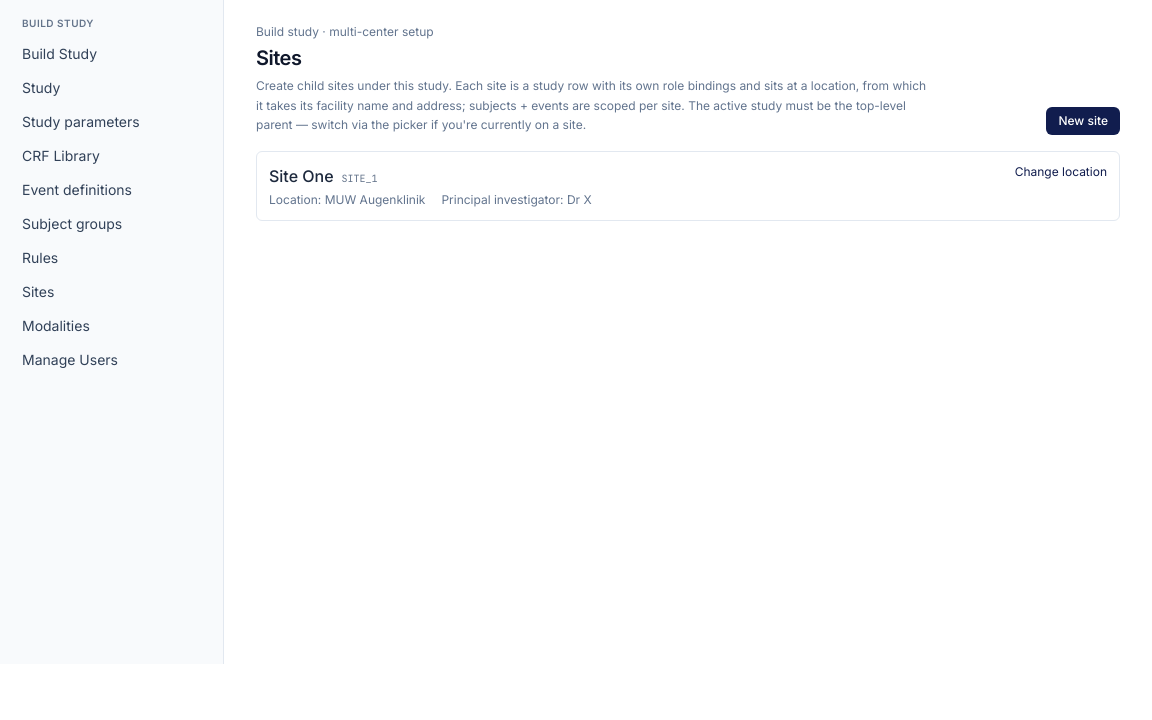
Test: SitesView move a site to another location › moves the site with PUT { locationId } and confirms it
This screenshot has width=1152, height=720.
Click the button with test id "site-move-SITE_1" at (1061, 172), box [1015,164,1107,180]
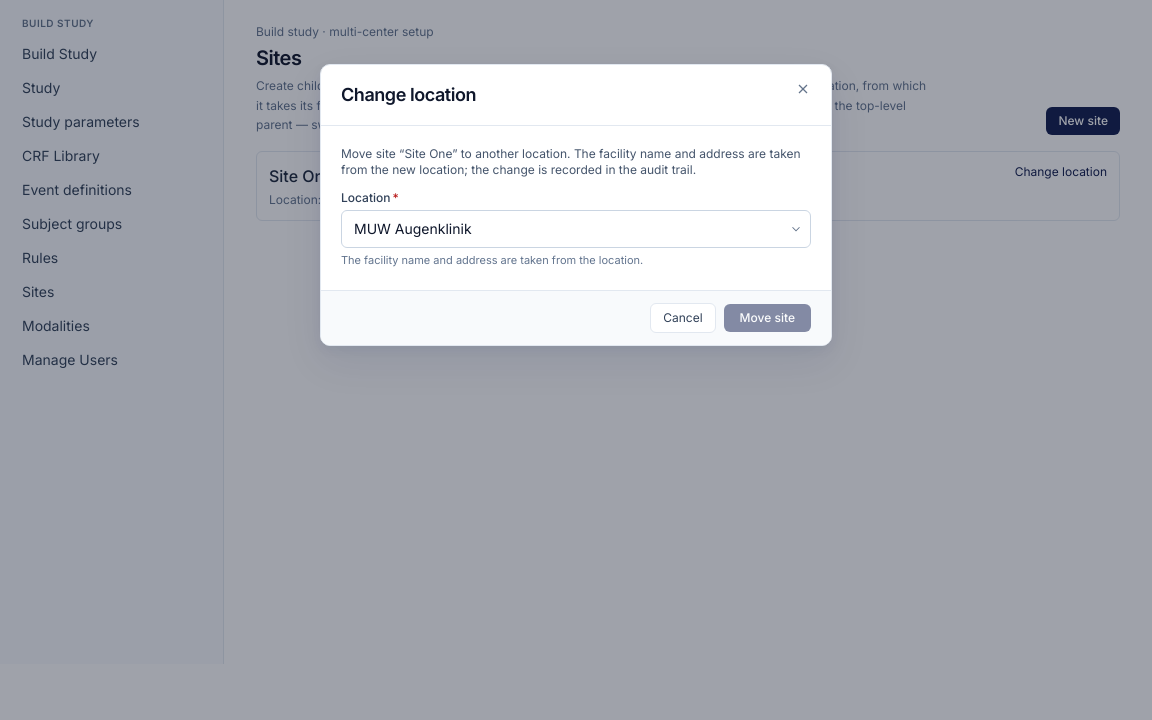
Check: the dropdown with id "site-move-location" shows "MUW Augenklinik"
Check: the button with test id "site-move-submit" is disabled, box [724,304,811,332]
Select "Klinik Graz" in the dropdown with id "site-move-location" at (576, 229), box [341,210,811,248]
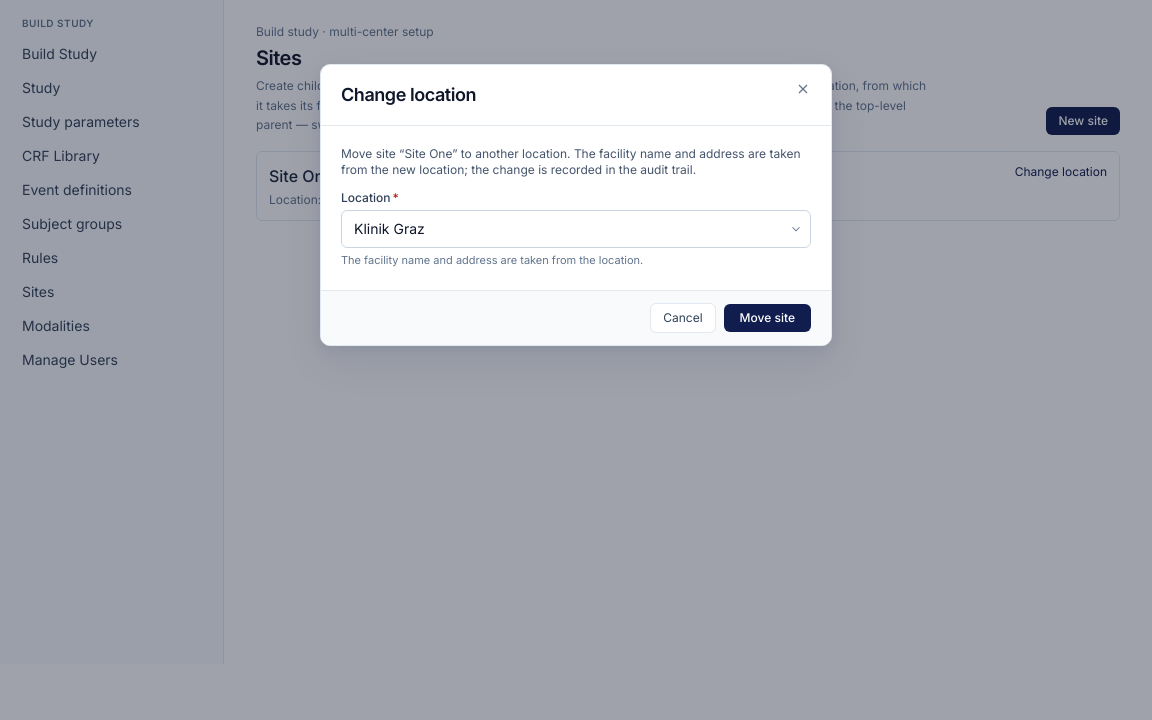
Check: the button with test id "site-move-submit" is enabled, box [724,304,811,332]
Submit the form with id "site-location-form", box [341,146,811,270]
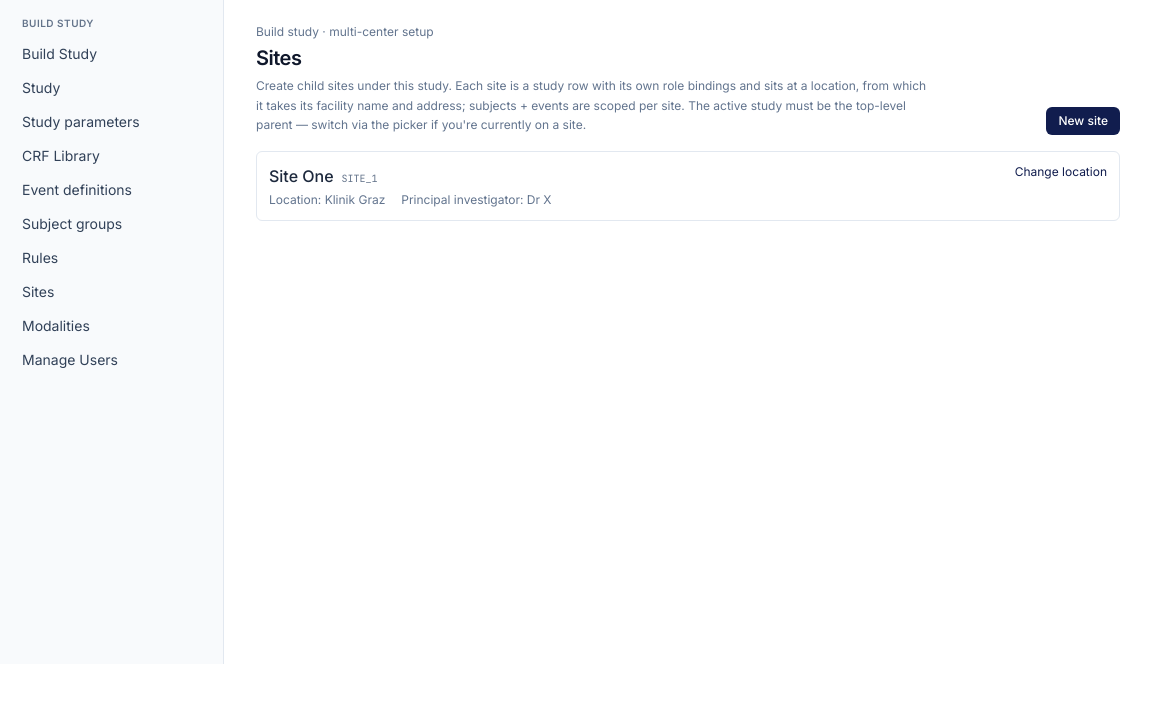
Check: the text with test id "site-location-SITE_1" shows "Klinik Graz", box [269,192,385,206]
Check: the label with id "site-move-location" is gone
